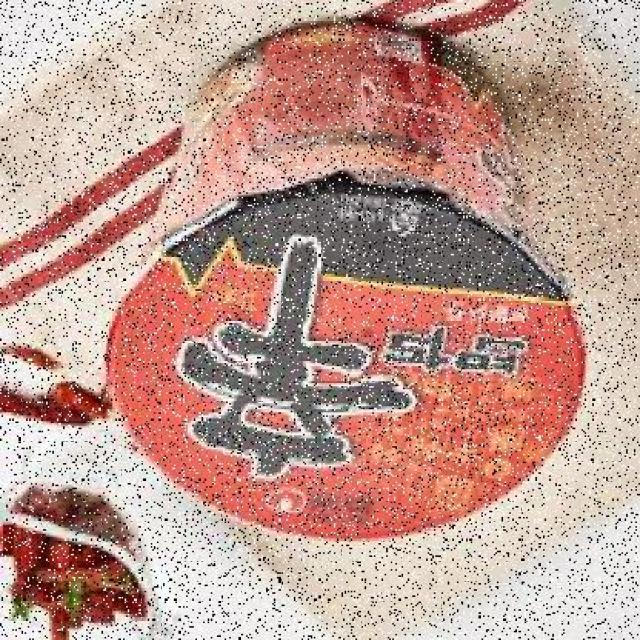Miscellaneous: (94, 31, 594, 564)
